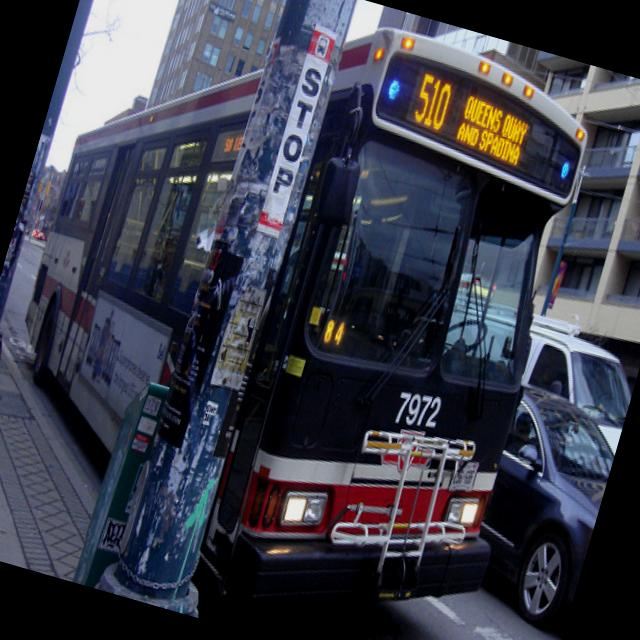Vehicle: (0, 0, 630, 640), (414, 287, 640, 483), (456, 383, 626, 635), (37, 231, 45, 240)
